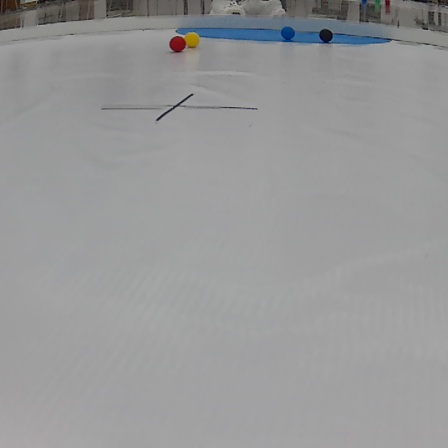black: (319, 28, 334, 41)
blue: (281, 27, 295, 39)
blue_base: (177, 20, 393, 48)
red: (169, 37, 188, 50)
yellow: (183, 32, 204, 46)
